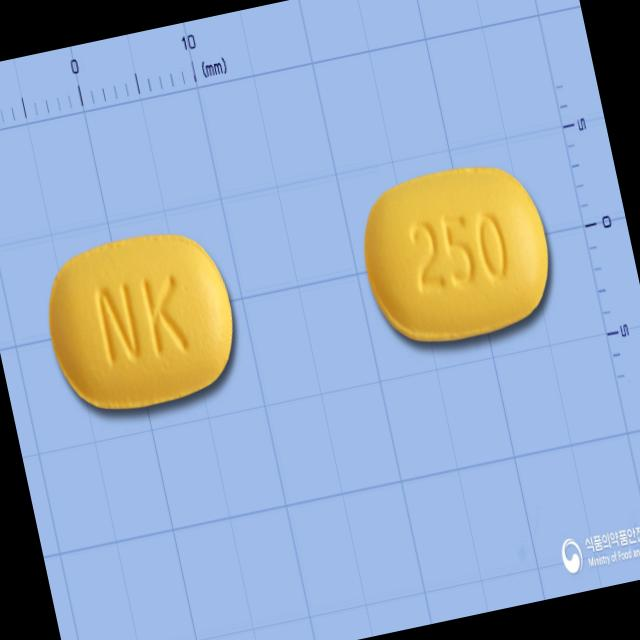Clara: (32, 217, 253, 431), (347, 148, 566, 358)
